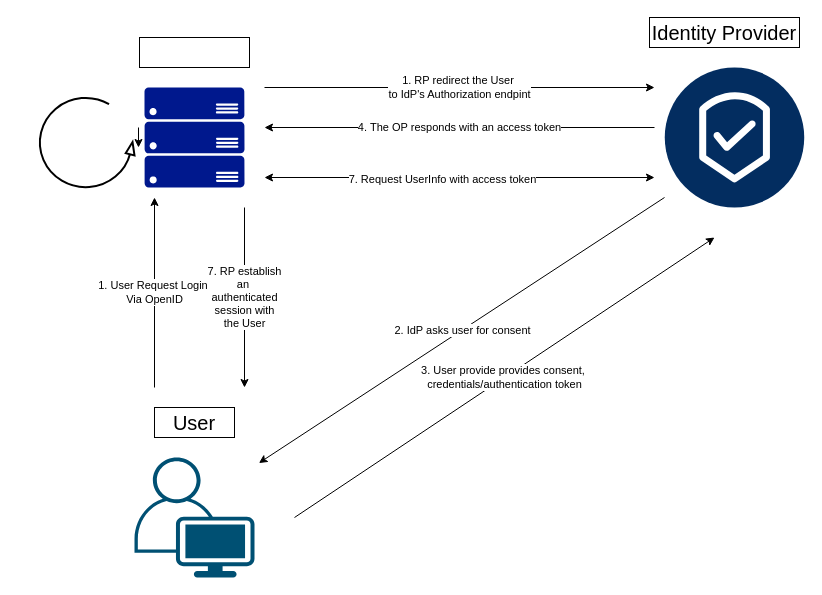
The diagram is 822 pixels wide and 595 high, and some of its shapes have lost their labels. Each missing label, with the centre of its shape:
5. Verifies the ID Token's signature, ensuring it was issued by the trusted IdP: (86,142)
Relay Party: (194,52)
